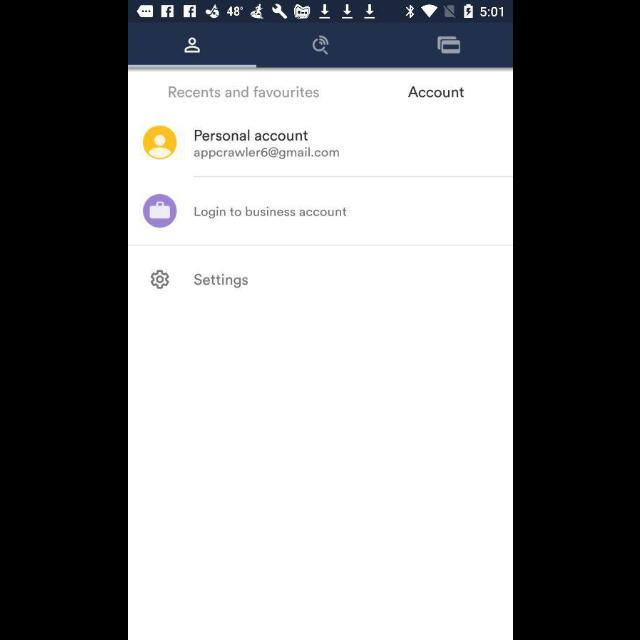icon: (142, 194, 176, 228), (142, 126, 176, 160), (436, 36, 460, 54), (150, 269, 168, 289), (312, 36, 328, 56), (183, 37, 200, 54)
multitab: (128, 24, 512, 70)
text: (194, 130, 338, 160), (194, 206, 346, 218), (168, 87, 318, 99), (193, 274, 247, 288), (408, 86, 464, 98)
uppertaskbar: (128, 1, 512, 23)
